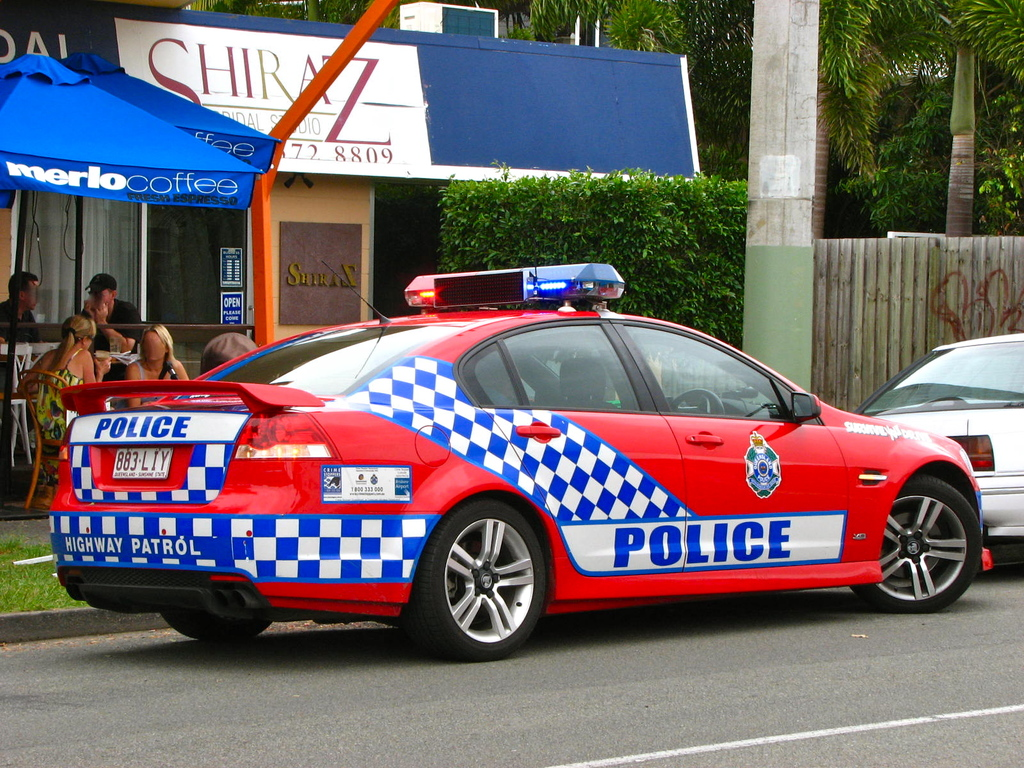Car: (43, 261, 998, 668), (858, 330, 1020, 542)
